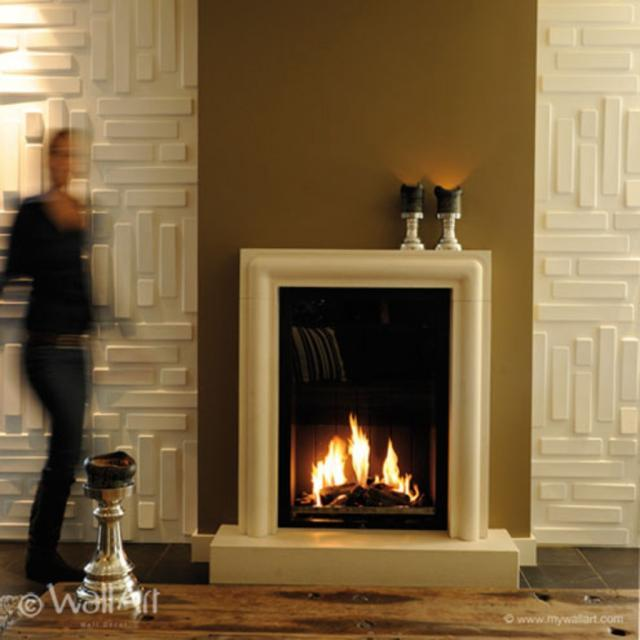Fire: (310, 411, 420, 509)
